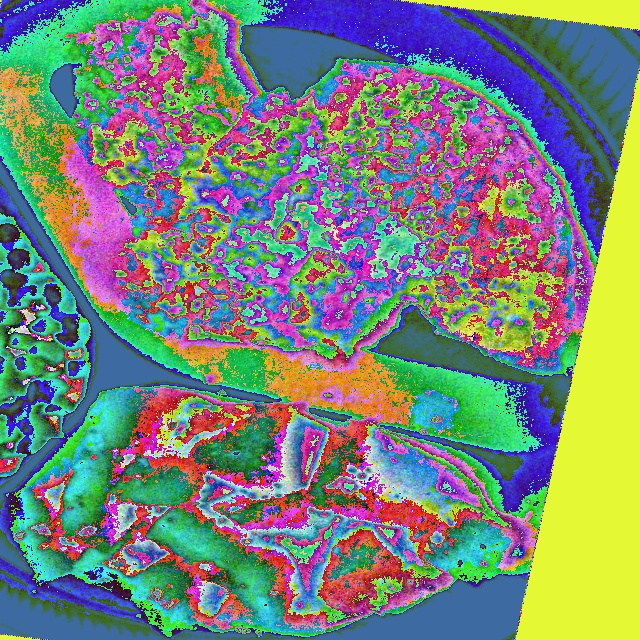background: (2, 254, 523, 639), (64, 0, 593, 379), (0, 203, 92, 477)
